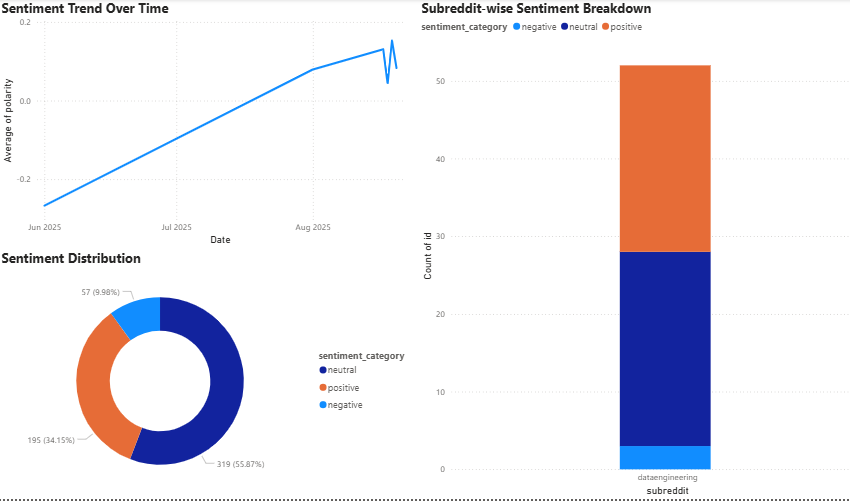

Layout of this report page (visuals, bound fields, positions):
{"tool":"powerbi","page":{"name":"Page 2","canvas":[1280,720],"ordinal":1},"visuals":[{"type":"donutChart","title":"Sentiment Distribution","fields":{"Category":["reddit_posts (1).sentiment_category"],"Y":["Sum(reddit_posts (1).num_comments)"]},"box":[0,359.5,604.7,361.2],"z":0},{"type":"lineChart","title":"Sentiment Trend Over Time","fields":{"Y":["Avg(reddit_posts (1).polarity)"],"Category":["reddit_posts (1).Date"]},"box":[0,0,604.7,359.5],"z":1000},{"type":"columnChart","title":"Subreddit-wise Sentiment Breakdown","fields":{"Category":["reddit_posts (1).subreddit"],"Y":["CountNonNull(reddit_posts (1).id)"],"Series":["reddit_posts (1).sentiment_category"]},"box":[604.7,0,675.3,720.6],"z":2000}]}

Visuals, with their boxes on the page's 1280x720 design canvas (x1, y1, x2, y2). These are canvas units, not pixel positions in the 850x503 screenshot, which may show the page scaled, cropped or inside an application window:
"Sentiment Distribution" donutChart: 0/360/605/721
"Sentiment Trend Over Time" lineChart: 0/0/605/360
"Subreddit-wise Sentiment Breakdown" columnChart: 605/0/1280/721
